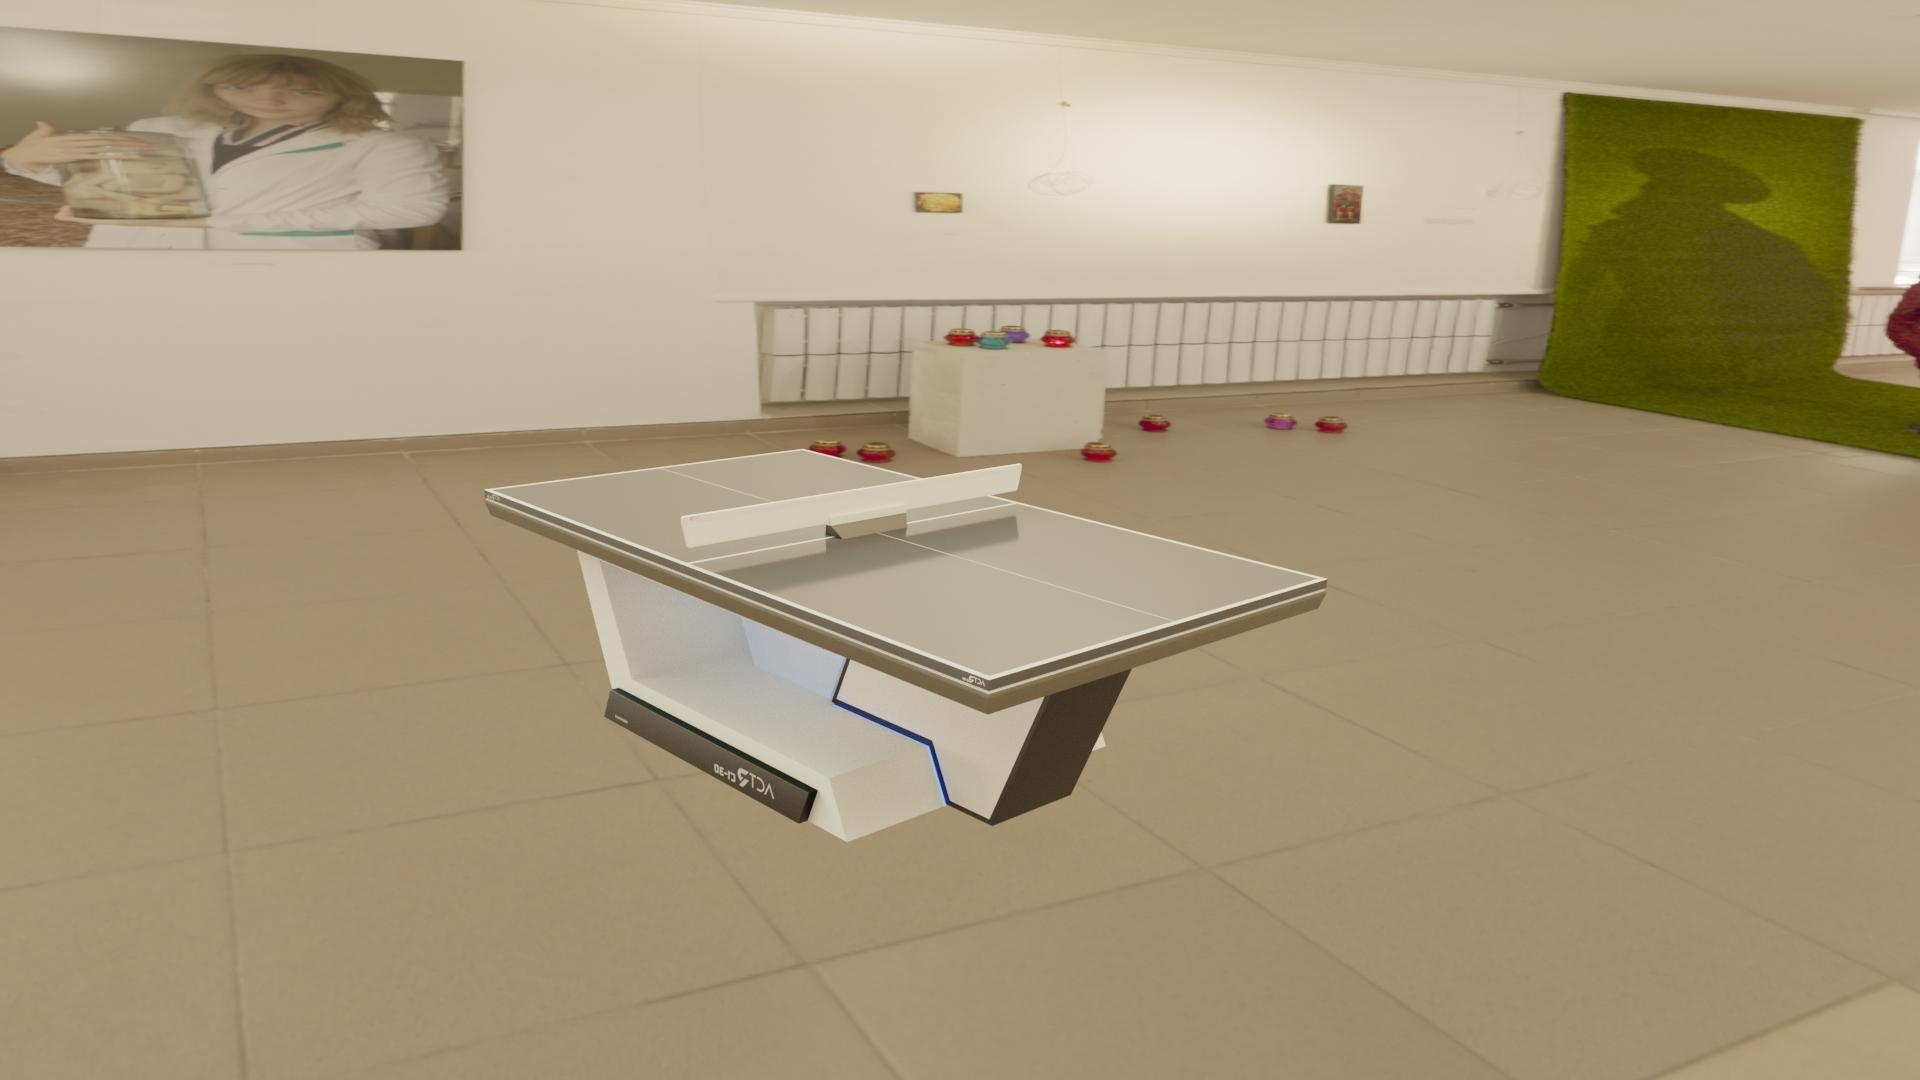table: (492, 450, 1319, 676)
